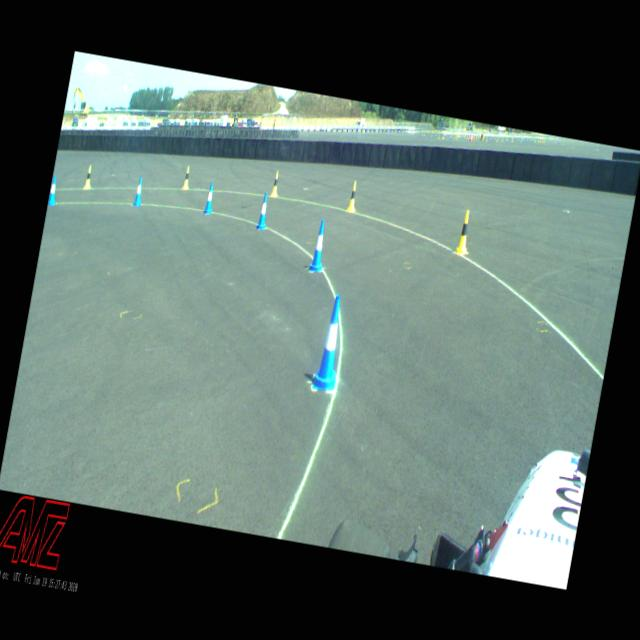blue_cone: (312, 293, 351, 391), (308, 218, 330, 272), (254, 191, 271, 231), (202, 180, 217, 216), (132, 176, 144, 206), (48, 175, 59, 206)
yellow_cone: (453, 209, 473, 255), (346, 180, 358, 211), (270, 170, 280, 197), (84, 164, 94, 188), (180, 166, 190, 190)
